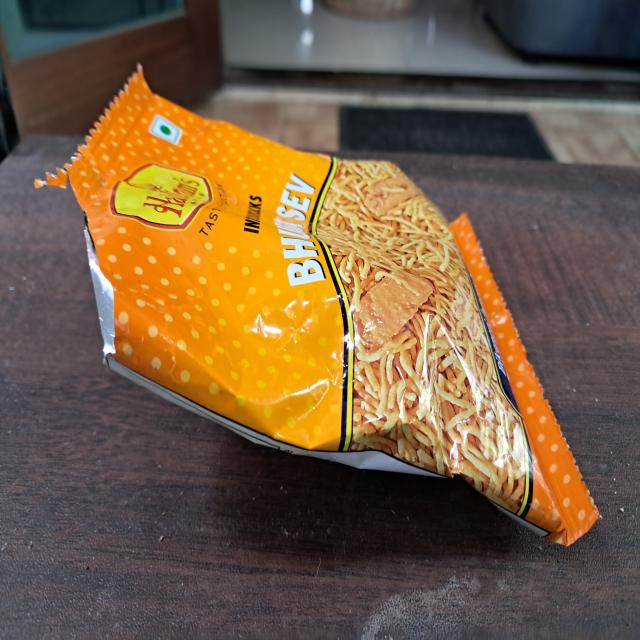Anorganik: (35, 50, 620, 561)
